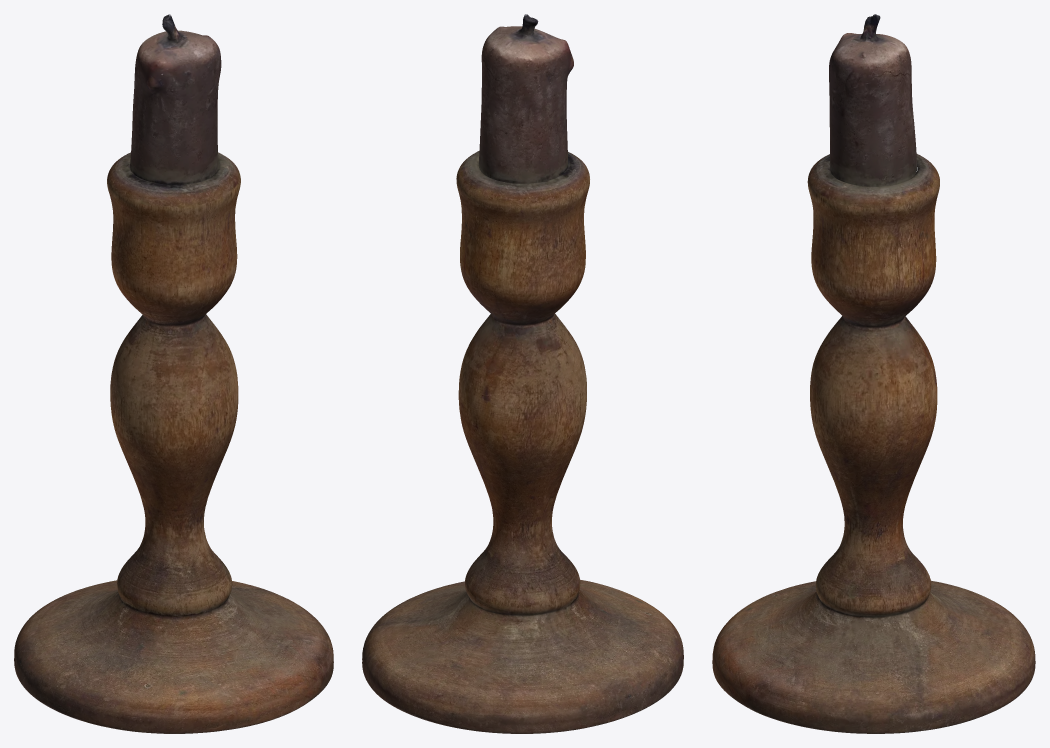
Rendered from premium-ph-wooden-candle.glb.
3 views of the same model, side by side, from view 1: azimuth 30°, elevation 25°; view 2: azimuth 150°, elevation 25°; view 3: azimuth 270°, elevation 25° (orthographic).
Parts seen in each view (by area): view 1: wooden_candlestick; view 2: wooden_candlestick; view 3: wooden_candlestick.
Boxes of the visible parts, box(x1,y1,x2,y2) form: wooden_candlestick: box(14, 14, 333, 733); wooden_candlestick: box(362, 14, 683, 733); wooden_candlestick: box(712, 14, 1035, 733).
Size of the model in its own units: 0.0972 by 0.2197 by 0.0987.
Materials: 1 (1 with a texture image).
